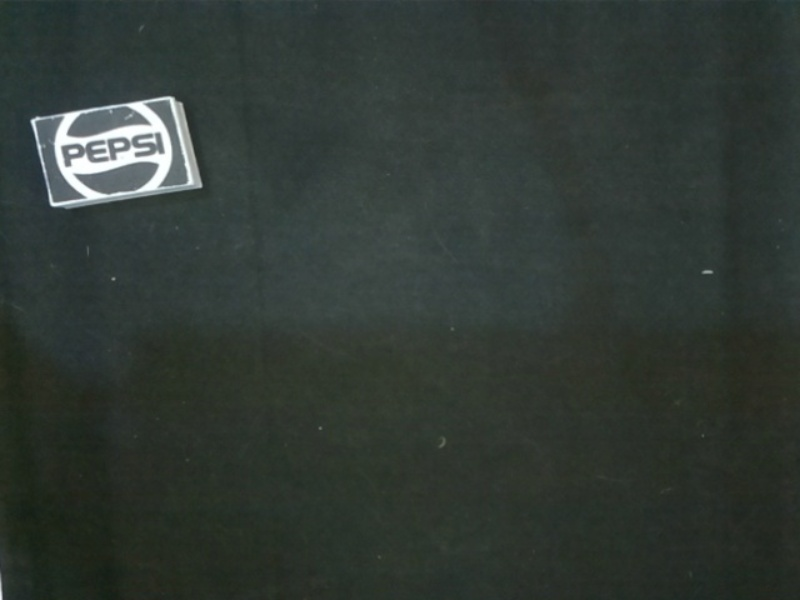pepsi: (29, 94, 199, 207)
